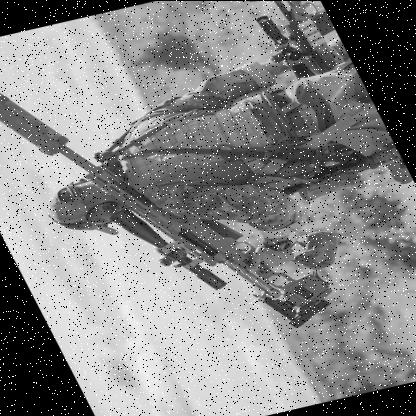rifle: (45, 106, 347, 361)
